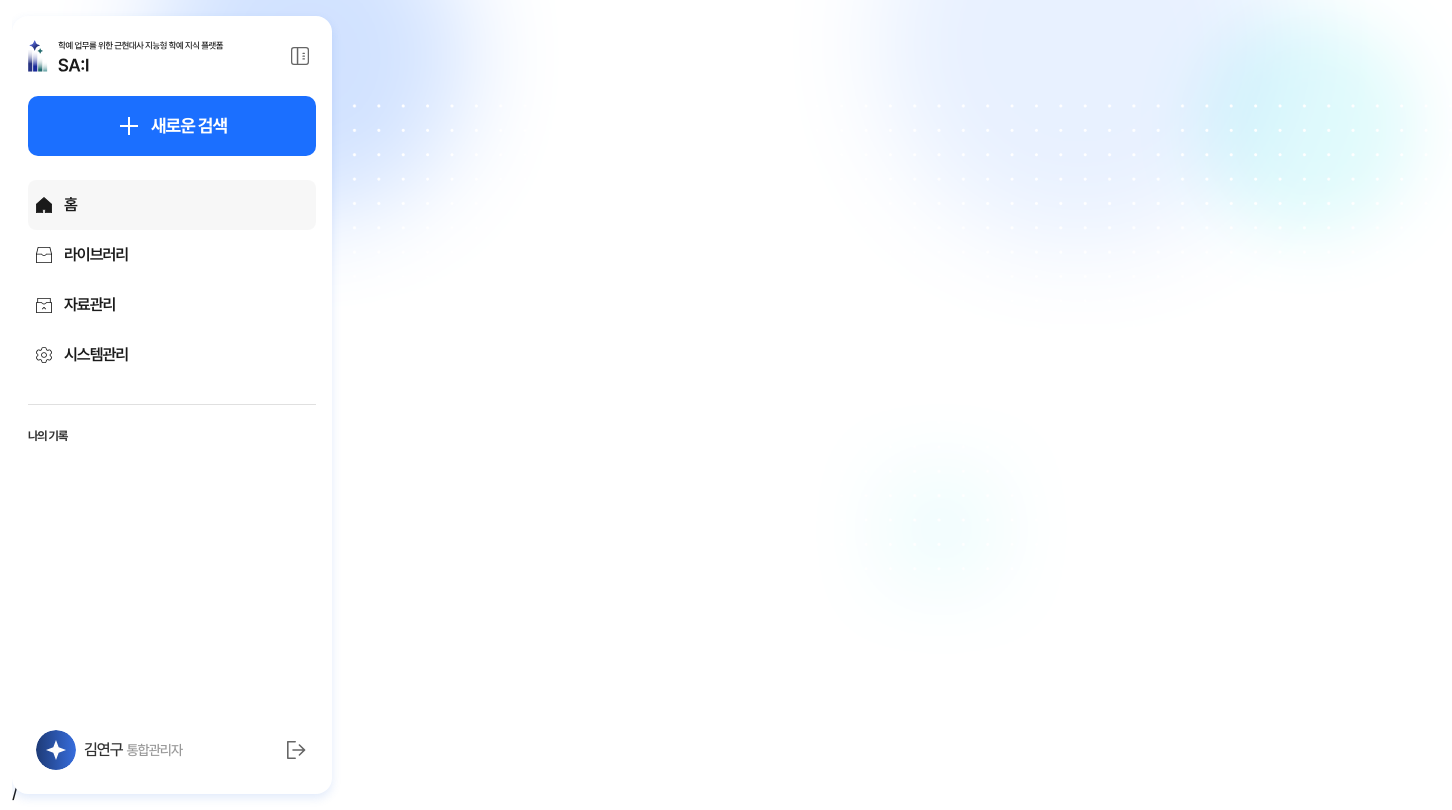
Scenario: 시스템관리 클릭(통합관리자 role): system-ops 권한이 있어 정상 이동한다
Click the link "시스템관리". click: (82, 354)
box: top-left (36, 345), bottom-right (128, 364)
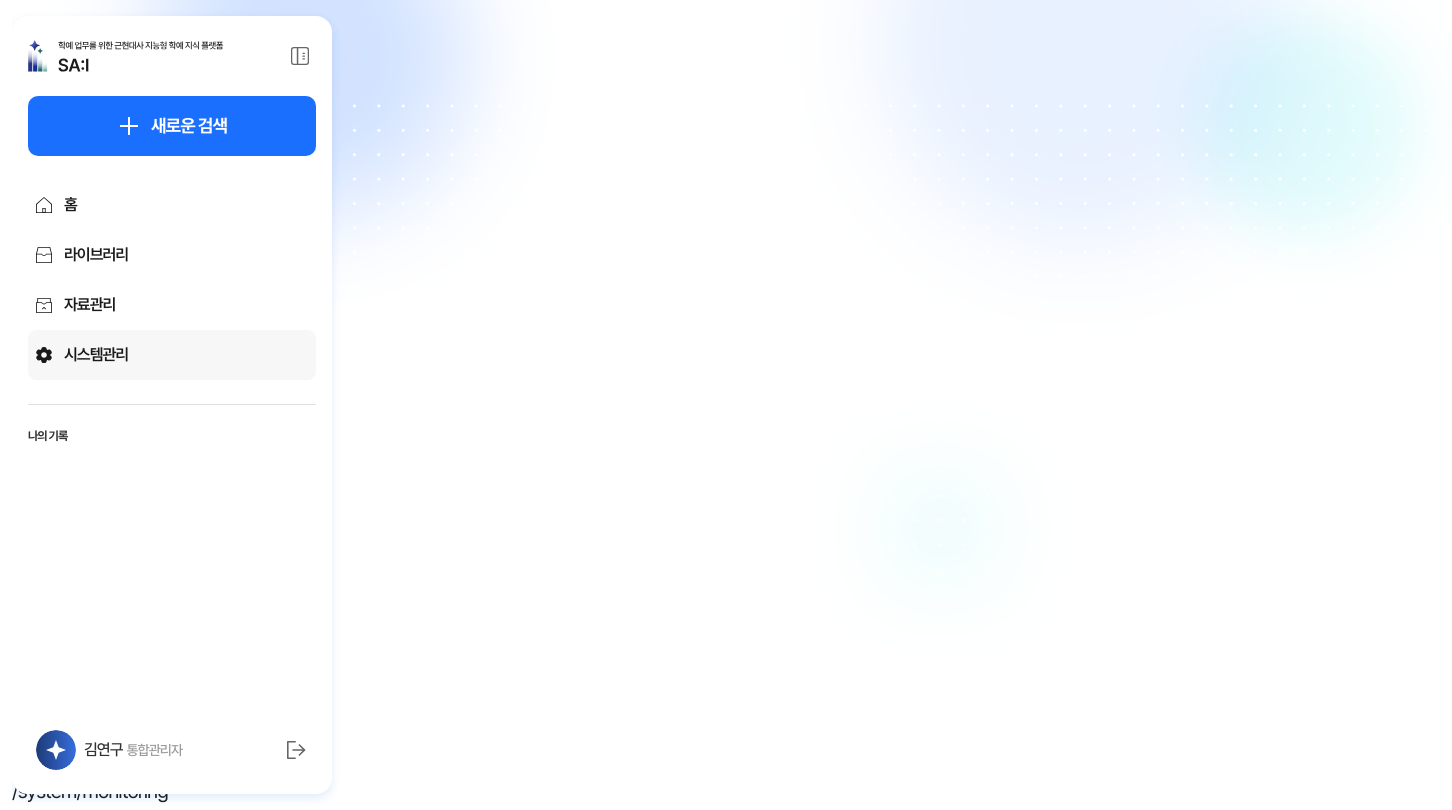
Now the text with test id "probe-path" reads "/system/monitoring", box top-left (12, 779), bottom-right (168, 803)
